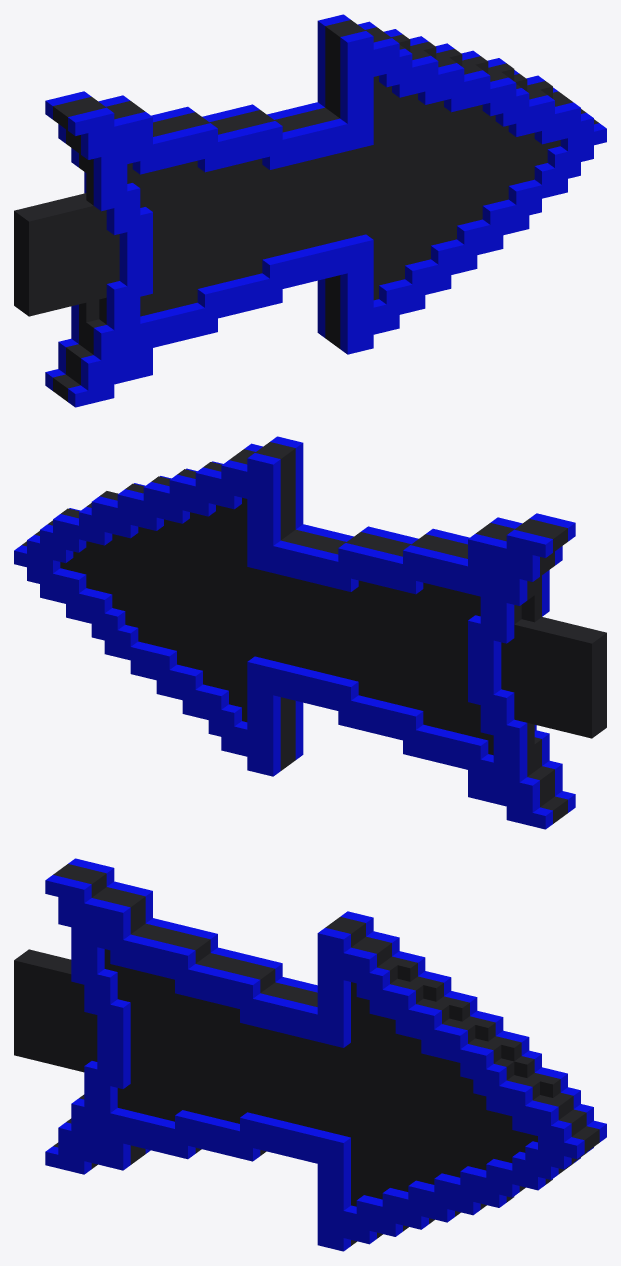
File: Signborad_006.obj
3 renders of one model, top to bottom at view 1: azimuth 30°, elevation 25°; view 2: azimuth 150°, elevation 25°; view 3: azimuth 330°, elevation 25°, orthographic.
Bounding box in the file's own units: 4.4 × 2.3 × 0.4.
1 material, 1 textured.
